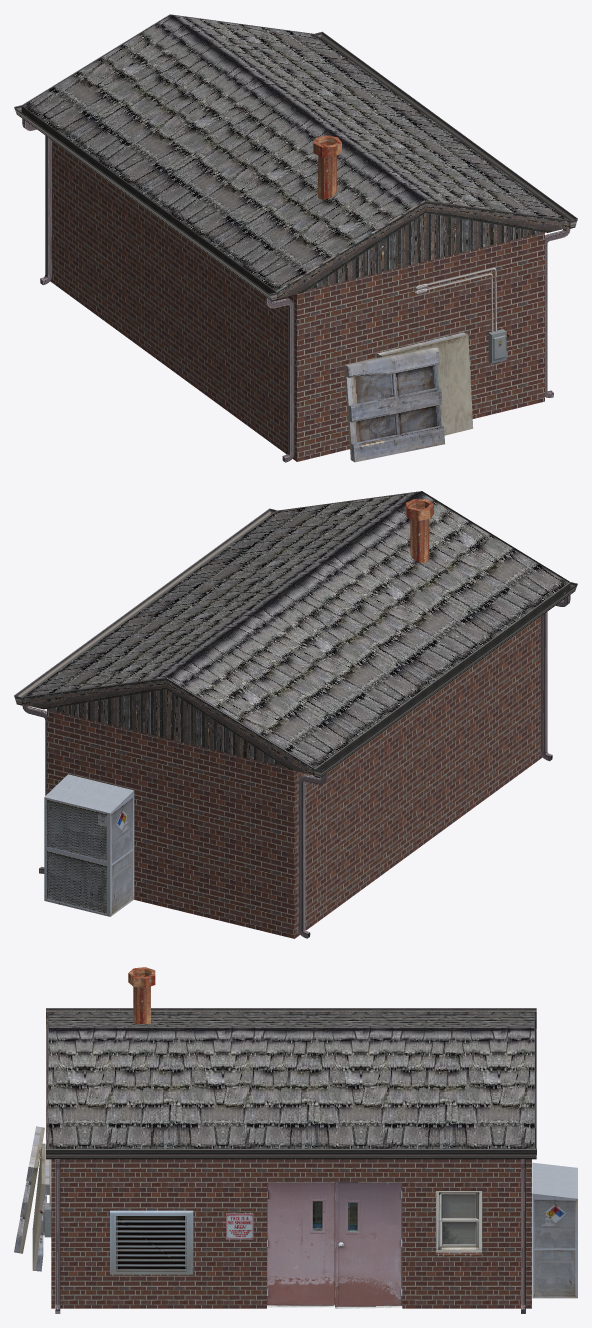
The model's file is building_01.glb.
3 renders of one model, top to bottom at view 1: azimuth 30°, elevation 25°; view 2: azimuth 150°, elevation 25°; view 3: azimuth 270°, elevation 25°, orthographic. The views are drawn at different scales.
Parts seen in each view (by area): view 1: building_01_roof, building_01, Pallet.001, building_01_guttertop.001, Pallet, building_01_guttertop, building_01_gutter_tall.002, building_01_exhaustpipe, building_01_gutter_tall.003, building_01_gutter_tall.001, panel_electric; view 2: building_01_roof, building_01, Propane_Storage, building_01_guttertop.001, building_01_guttertop, building_01_gutter_tall.003, building_01_exhaustpipe, building_01_gutter_tall.002; view 3: building_01_roof, building_01, Door_Shed_A.001, Propane_Storage, building_01_vent, building_01_guttertop, window_modern, building_01_guttertop.001, Pallet, Pallet.001, building_01_exhaustpipe, building_01_gutter_tall.001 (+2 smaller).
Part boxes in pixels (bbox=[...]): building_01_roof: bbox=[22, 14, 569, 298]; building_01: bbox=[50, 141, 544, 461]; Pallet.001: bbox=[344, 346, 444, 462]; building_01_guttertop.001: bbox=[14, 105, 277, 301]; Pallet: bbox=[377, 332, 473, 435]; building_01_guttertop: bbox=[315, 31, 577, 228]; building_01_gutter_tall.002: bbox=[264, 293, 294, 462]; building_01_exhaustpipe: bbox=[313, 135, 341, 199]; building_01_gutter_tall.003: bbox=[22, 116, 52, 284]; building_01_gutter_tall.001: bbox=[545, 228, 570, 397]; panel_electric: bbox=[488, 329, 506, 363]; building_01_roof: bbox=[22, 491, 569, 775]; building_01: bbox=[47, 617, 542, 938]; Propane_Storage: bbox=[44, 774, 134, 916]; building_01_guttertop.001: bbox=[314, 582, 577, 778]; building_01_guttertop: bbox=[14, 508, 277, 705]; building_01_gutter_tall.003: bbox=[298, 769, 327, 938]; building_01_exhaustpipe: bbox=[405, 499, 433, 562]; building_01_gutter_tall.002: bbox=[540, 592, 570, 761]; building_01_roof: bbox=[46, 1011, 536, 1154]; building_01: bbox=[51, 1159, 531, 1308]; Door_Shed_A.001: bbox=[267, 1182, 402, 1308]; Propane_Storage: bbox=[532, 1162, 577, 1298]; building_01_vent: bbox=[110, 1210, 193, 1274]; building_01_guttertop: bbox=[46, 1149, 536, 1159]; window_modern: bbox=[436, 1191, 482, 1252]; building_01_guttertop.001: bbox=[46, 1008, 536, 1011]; Pallet: bbox=[32, 1143, 49, 1271]; Pallet.001: bbox=[14, 1126, 44, 1253]; building_01_exhaustpipe: bbox=[128, 967, 155, 1023]; building_01_gutter_tall.001: bbox=[55, 1159, 60, 1313].
Bounding box in the file's own units: 5.69 × 4.72 × 9.38.
18 materials, 18 textured.
